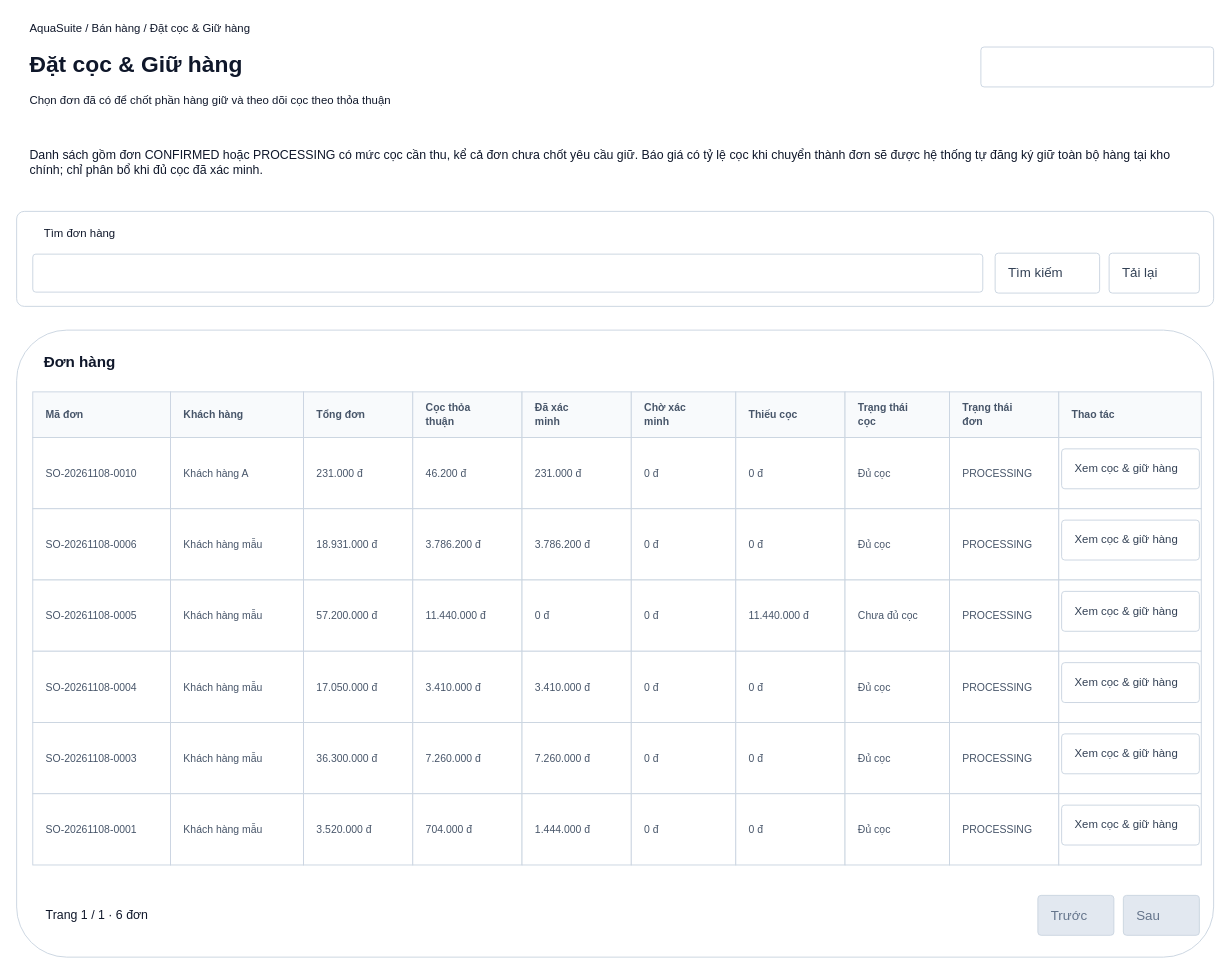
Image size: 1230x974. Some labels were removed from this diagram. Each missing label, with the centre of its shape:
Mã đơn hoặc số điện thoại khách...: (507,272)
← Về bảng điều khiển: (1097,66)
